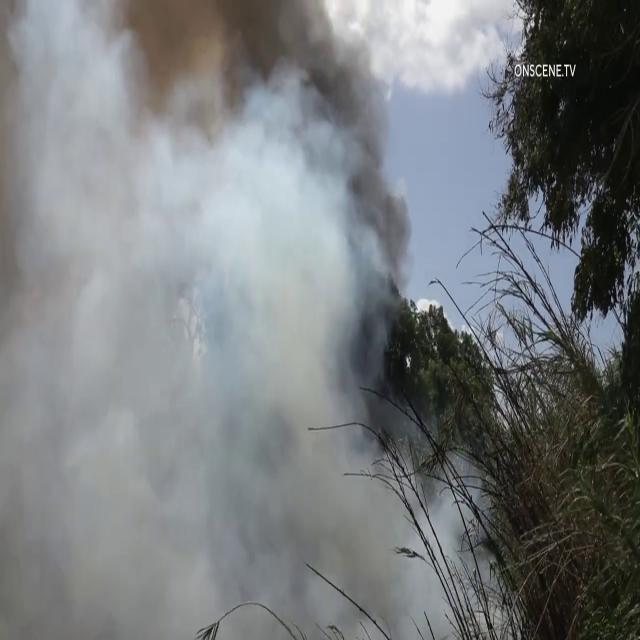Smoke: (0, 0, 428, 640)
